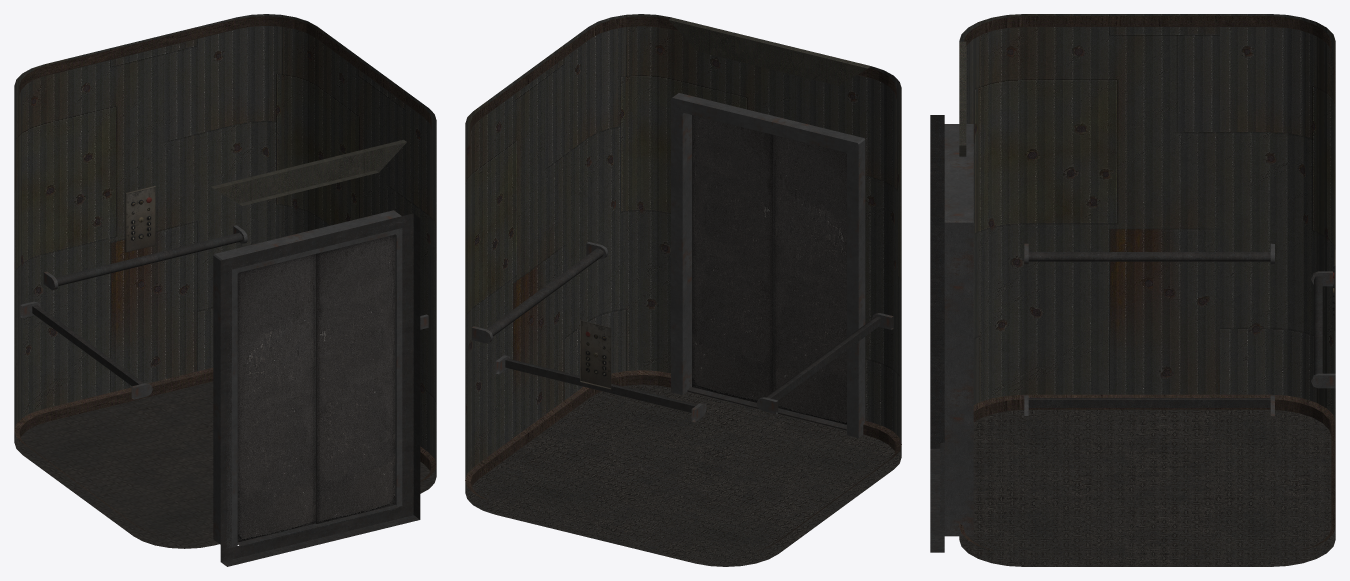
The model's file is elevator_1.glb.
3 renders of one model, left to right at view 1: azimuth 30°, elevation 25°; view 2: azimuth 150°, elevation 25°; view 3: azimuth 270°, elevation 25°, orthographic. The views are drawn at different scales.
Visible parts, largest first — view 1: elevator_1, elevator_door_2_a, elevator_door_2_b, elevator_buttons_1; view 2: elevator_1, elevator_door_2_a, elevator_door_2_b, elevator_buttons_1; view 3: elevator_1.
Boxes of the visible parts, box(x1,y1,x2,y2) form: elevator_1: box(14, 14, 436, 566); elevator_door_2_a: box(316, 234, 395, 523); elevator_door_2_b: box(237, 254, 315, 544); elevator_buttons_1: box(125, 185, 155, 252); elevator_1: box(465, 14, 901, 566); elevator_door_2_a: box(692, 115, 772, 402); elevator_door_2_b: box(773, 135, 846, 424); elevator_buttons_1: box(580, 320, 611, 389); elevator_1: box(930, 14, 1335, 566).
Bounding box in the file's own units: 2.6 × 3.1 × 2.8.
Materials: 8 (8 with a texture image).
